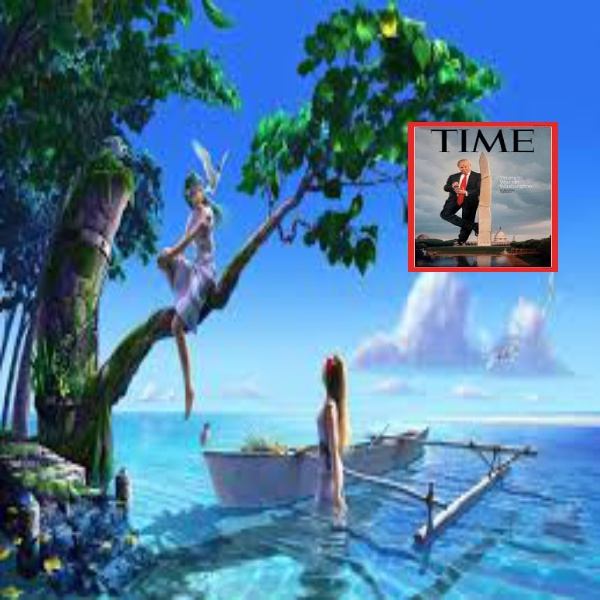time_cover: (403, 104, 568, 272)
